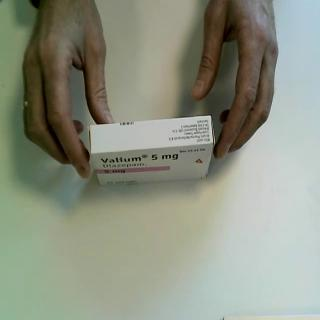valium5mg: (87, 114, 217, 190)
